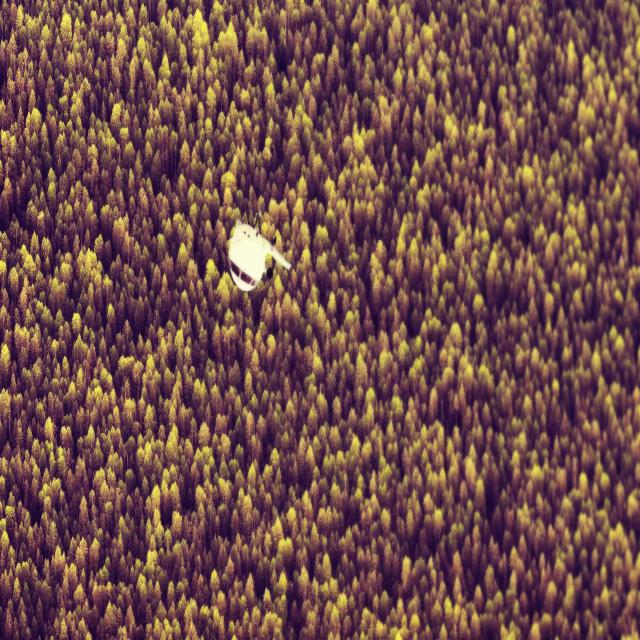airplane: (227, 211, 291, 293)
